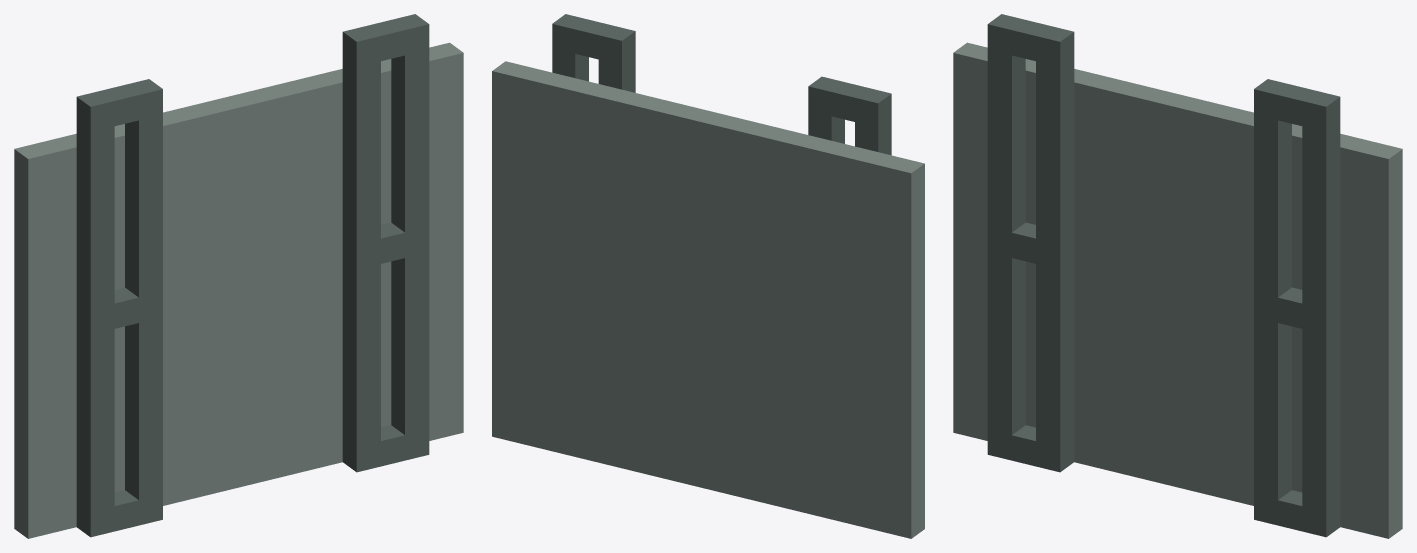
The model's file is fence.dae.
3 renders of one model, left to right at view 1: azimuth 30°, elevation 25°; view 2: azimuth 150°, elevation 25°; view 3: azimuth 330°, elevation 25°, orthographic. The views are drawn at different scales.
Parts seen in each view (by area): view 1: Content; view 2: Content; view 3: Content.
Boxes of the visible parts, bbox=[...] form: Content: bbox=[14, 14, 463, 538]; Content: bbox=[492, 14, 924, 538]; Content: bbox=[953, 14, 1402, 538].
Size of the model in its own units: 18 by 17 by 2.
1 material, 1 textured.
